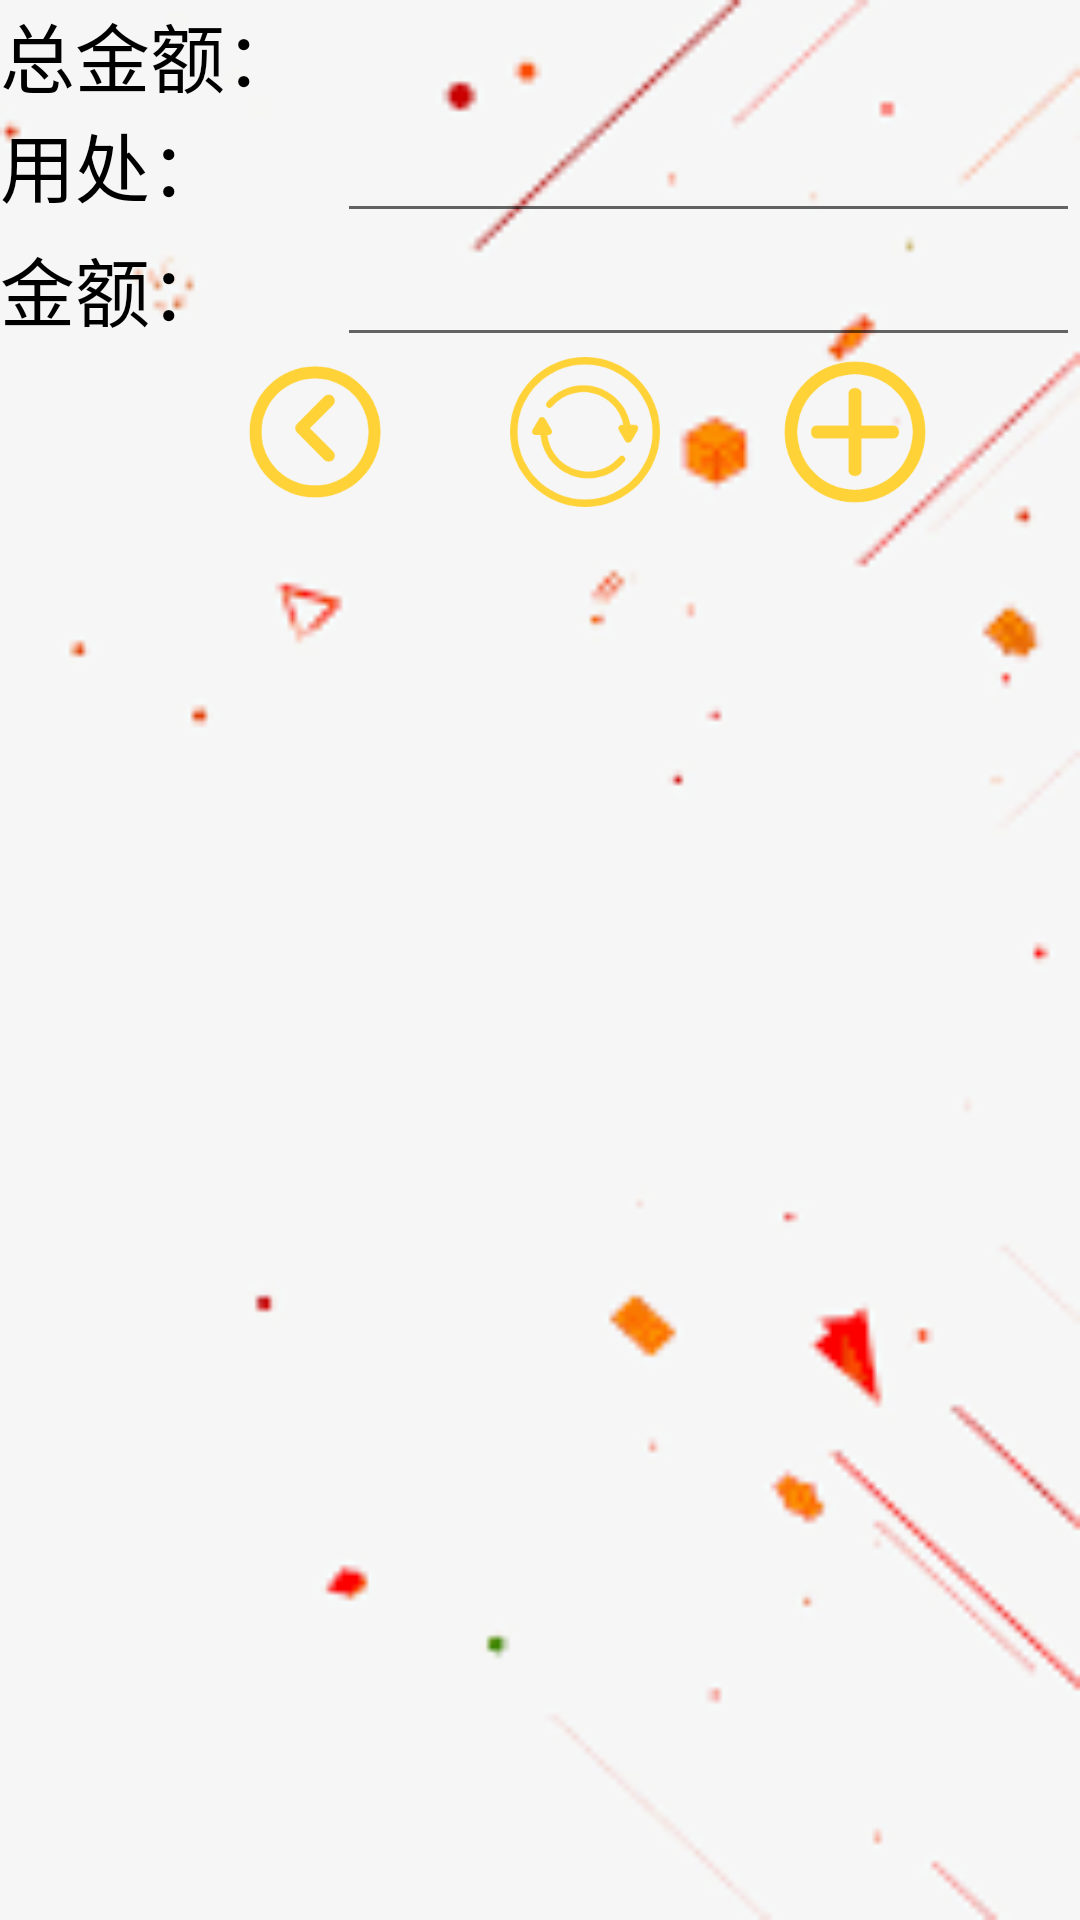

Point at icon controls on the screen. Image size 1080 × 1920, points as (x,y).
return login: (315,432)
